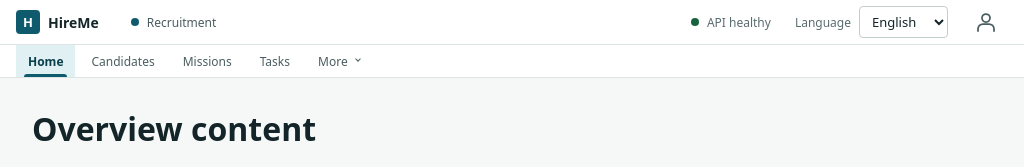
AppShell › uses real destination links and focuses main content after route navigation
This screenshot has width=1024, height=167.
Click the link "Tasks": point(275, 61) [260,52,290,70]
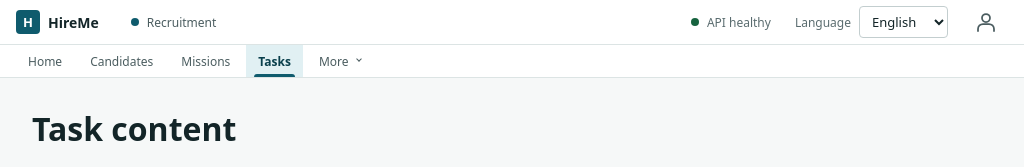
Result: the heading "Task content" is shown at [32,107,236,150]
